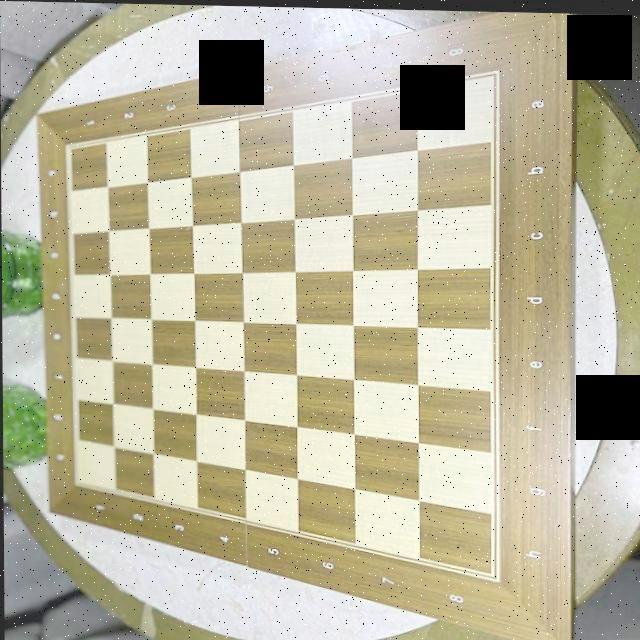chess-table-corners: (458, 45, 522, 93), (470, 530, 512, 592), (51, 122, 92, 168), (64, 454, 100, 496)
